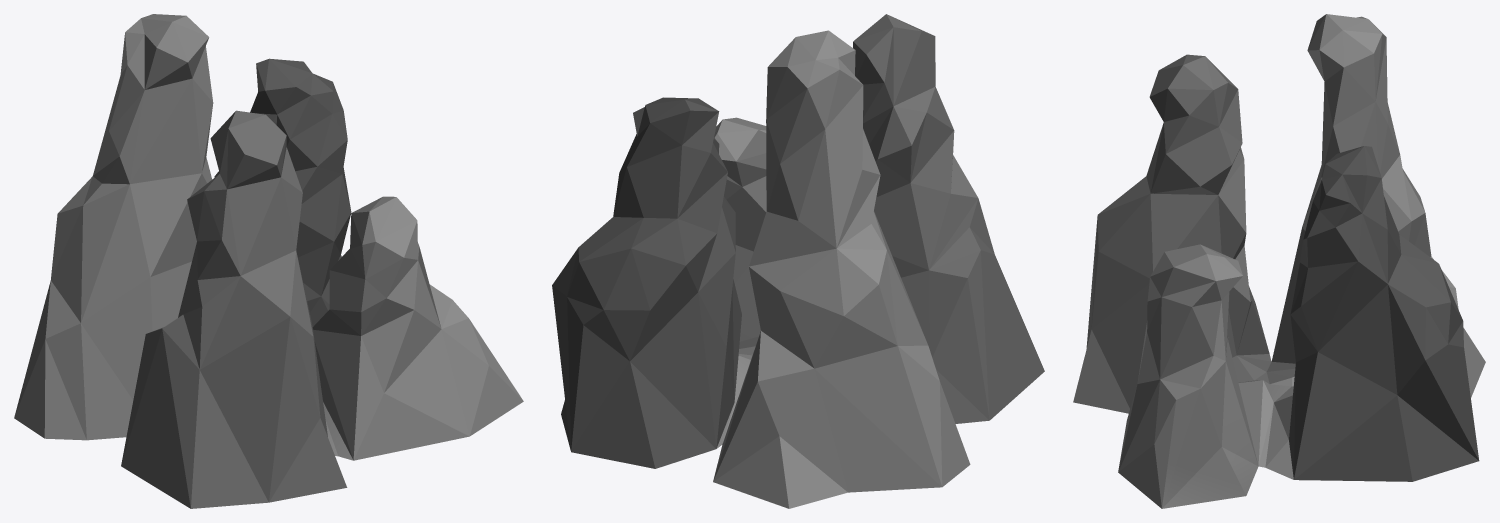
The model's file is stoun_18.fbx.
3 renders of one model, left to right at view 1: azimuth 30°, elevation 25°; view 2: azimuth 150°, elevation 25°; view 3: azimuth 270°, elevation 25°, orthographic. The views are drawn at different scales.
Visible parts, largest first — view 1: Object.024; view 2: Object.024; view 3: Object.024.
Part boxes in pixels (x1,y1,x2,y2): Object.024: (14,14,523,508); Object.024: (552,14,1044,508); Object.024: (1073,14,1485,508).
Size of the model in its own units: 261 by 241 by 242.
